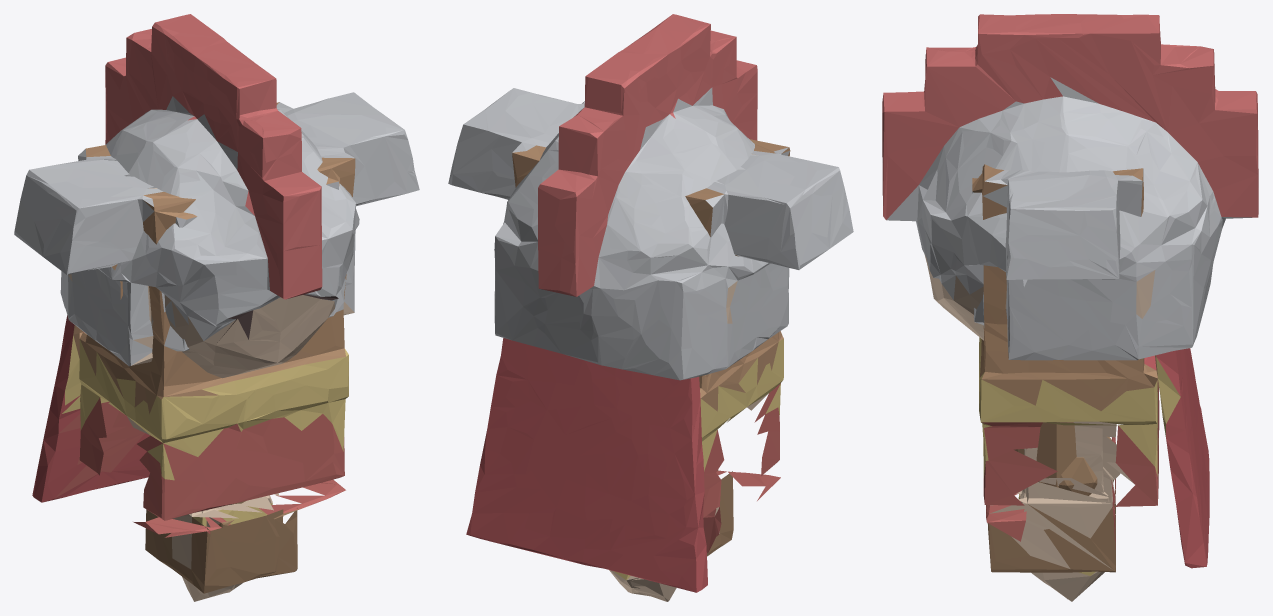
File: glad.glb
The picture shows the model from 3 angles, left to right: view 1: azimuth 30°, elevation 25°; view 2: azimuth 150°, elevation 25°; view 3: azimuth 270°, elevation 25°; orthographic projection. The views are drawn at different scales.
Visible parts, largest first — view 1: torso, head, legL_l, legR_l, armL_l; view 2: torso, head, legL_l, armL_l; view 3: head, torso, legR_l, legL_u, armR_u, armR_l, legL_l.
Part boxes in pixels (x1=…): torso: x1=14, y1=92, x2=419, y2=537; head: x1=60, y1=14, x2=359, y2=378; legL_l: x1=145, y1=504, x2=283, y2=593; legR_l: x1=206, y1=493, x2=297, y2=578; armL_l: x1=182, y1=497, x2=267, y2=601; torso: x1=448, y1=88, x2=853, y2=592; head: x1=494, y1=14, x2=789, y2=380; legL_l: x1=707, y1=471, x2=733, y2=556; armL_l: x1=630, y1=578, x2=676, y2=601; head: x1=882, y1=14, x2=1258, y2=360; torso: x1=972, y1=164, x2=1209, y2=568; legR_l: x1=987, y1=482, x2=1115, y2=572; legL_u: x1=1036, y1=421, x2=1120, y2=496; armR_u: x1=1024, y1=425, x2=1103, y2=493; armR_l: x1=1020, y1=489, x2=1109, y2=601; legL_l: x1=1038, y1=436, x2=1115, y2=515.
Bounding box in the file's own units: 1.06 × 1.57 × 0.9393.
